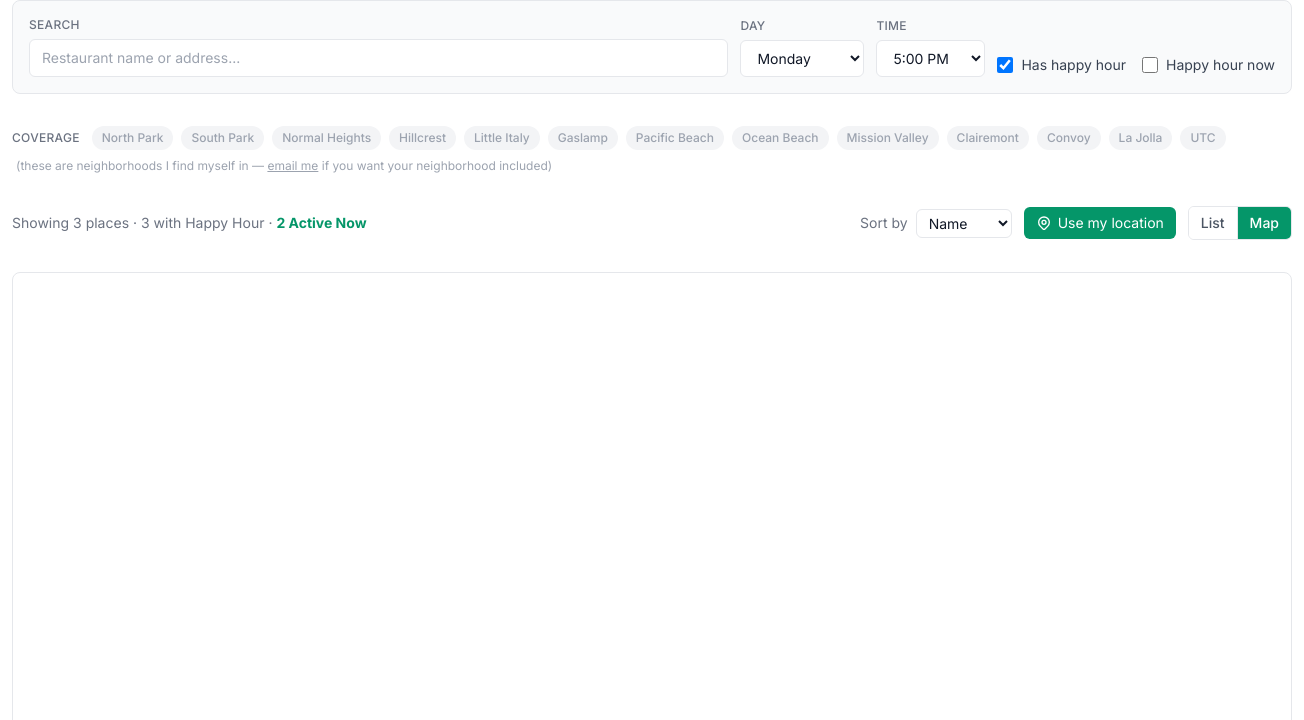
Test: HappyHourFinder - Filter Combinations › Given search "Sushi" and Has happy hour checked, When both filters are active, Then only "Sushi Monday" and "Sushi Palace" are shown (both have happy hours)
Click the button "List": x=1213, y=223 [1189, 207, 1237, 239]
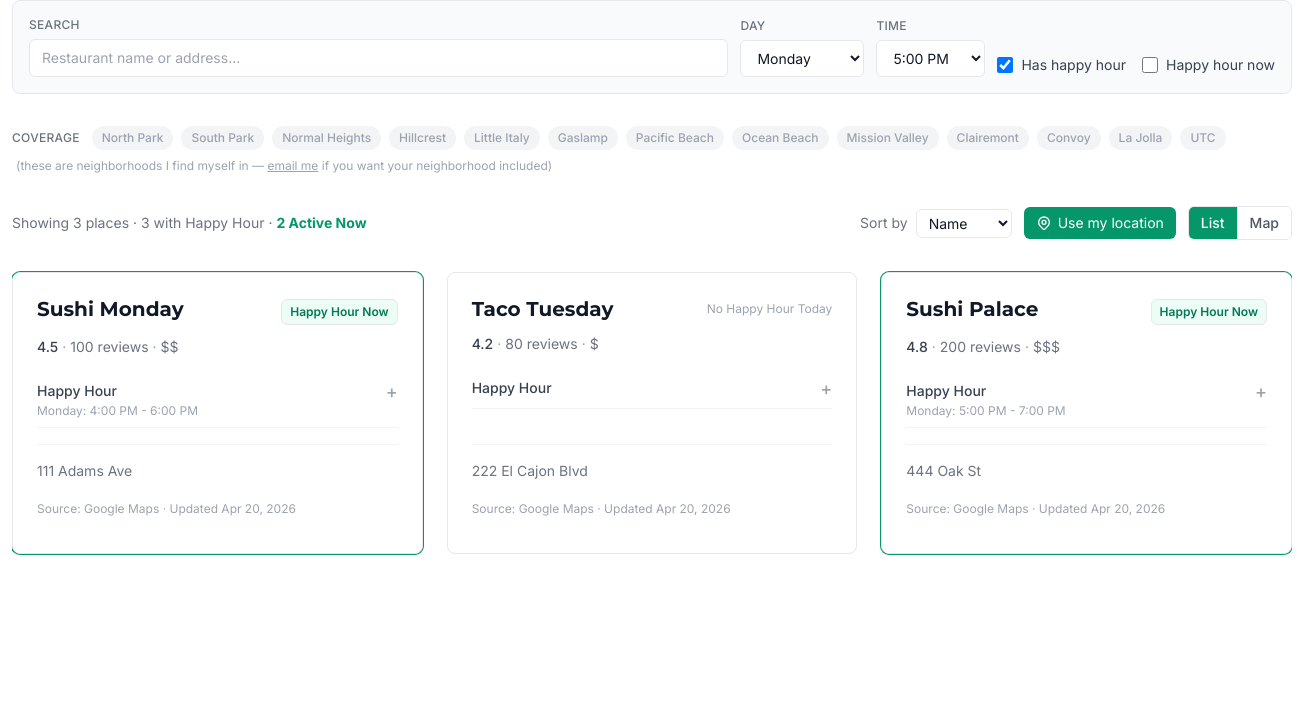
In the field with placeholder "Restaurant name or address...": x=379, y=58 [29, 39, 728, 77], type "Sushi"
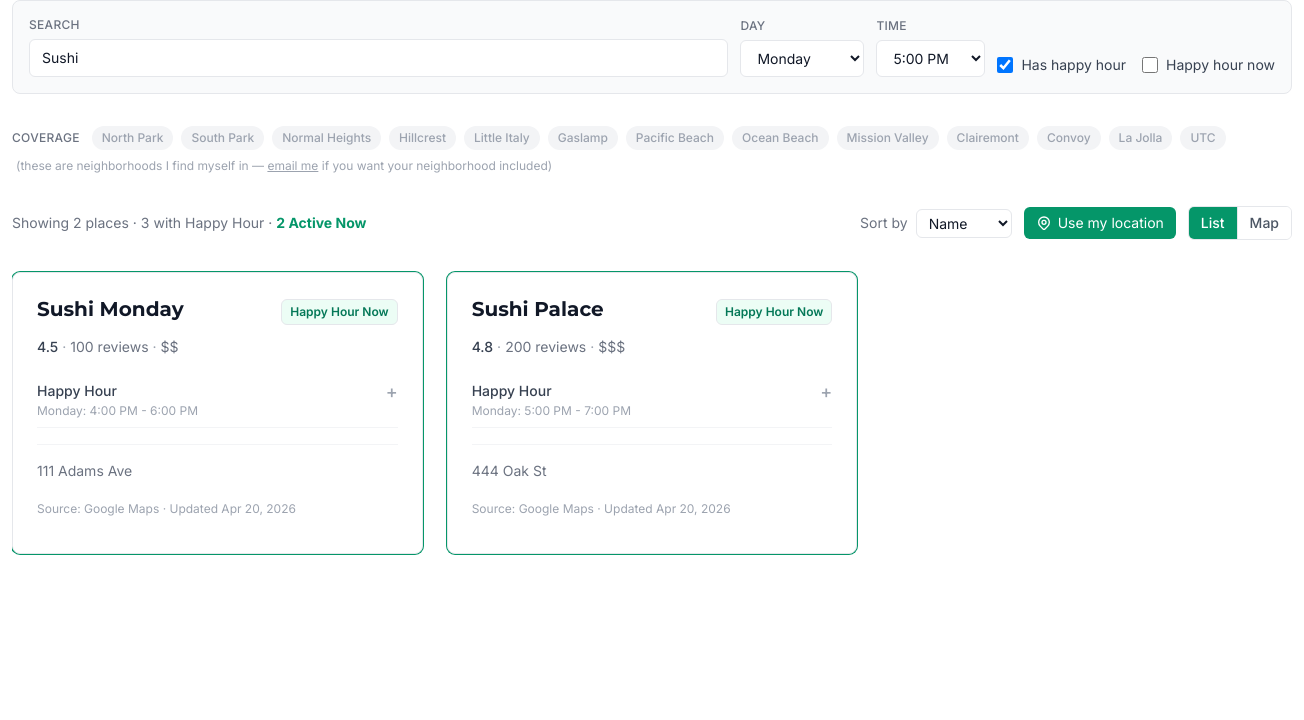
expect the heading "Sushi Monday" is shown: met, box [37, 297, 184, 322]
expect the heading "Sushi Palace" is shown: met, box [472, 297, 604, 322]
expect the heading "Taco Tuesday" is gone: met
